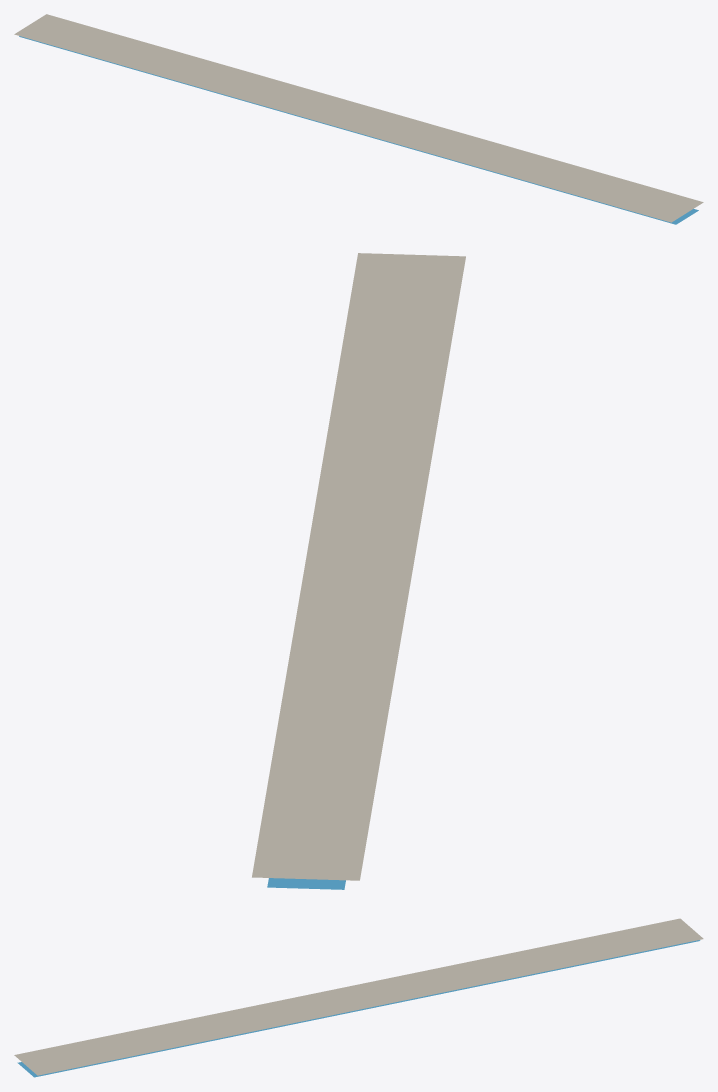
The picture shows the model from 3 angles, top to bottom: view 1: azimuth 30°, elevation 25°; view 2: azimuth 150°, elevation 25°; view 3: azimuth 270°, elevation 25°; orthographic projection. The views are drawn at different scales.
Parts seen in each view (by area): view 1: estructura_terreno, estructura_agua; view 2: estructura_terreno; view 3: estructura_terreno, estructura_agua.
Part boxes in pixels (x1,y1,x2,y2): estructura_terreno: (14,14,703,222); estructura_agua: (19,36,698,224); estructura_terreno: (252,253,465,880); estructura_terreno: (14,918,703,1075); estructura_agua: (17,940,700,1077).
Size of the model in its own units: 28.84 by 0.41 by 53.48.
